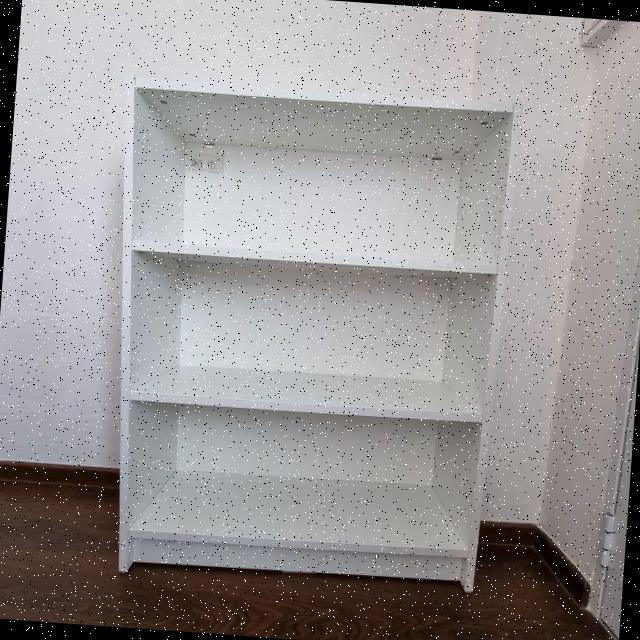Shelf: (79, 59, 529, 604)
